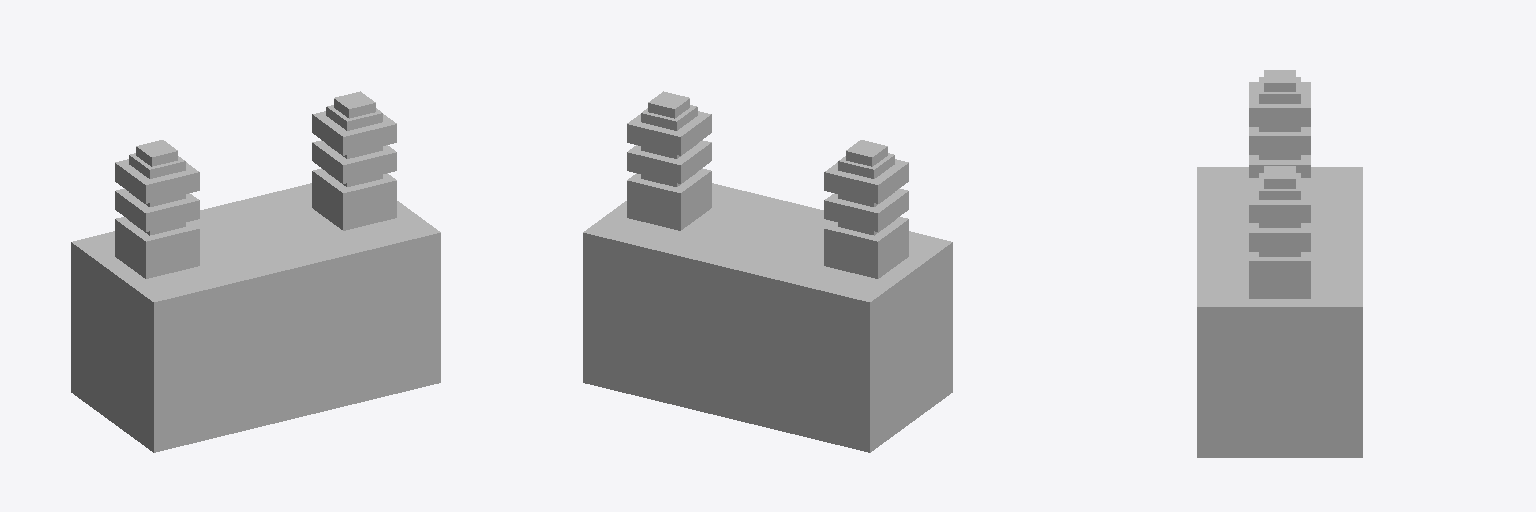
File: hv_autotransformer.obj
3 views of the same model, side by side, from view 1: azimuth 30°, elevation 25°; view 2: azimuth 150°, elevation 25°; view 3: azimuth 270°, elevation 25° (orthographic).
Visible parts, largest first — view 1: cube; view 2: cube; view 3: cube.
Boxes of the visible parts, x1,y1,x2,y2 form: cube: [71, 91, 440, 452]; cube: [583, 91, 952, 452]; cube: [1197, 70, 1362, 457].
Size of the model in its own units: 2 by 1.75 by 1.